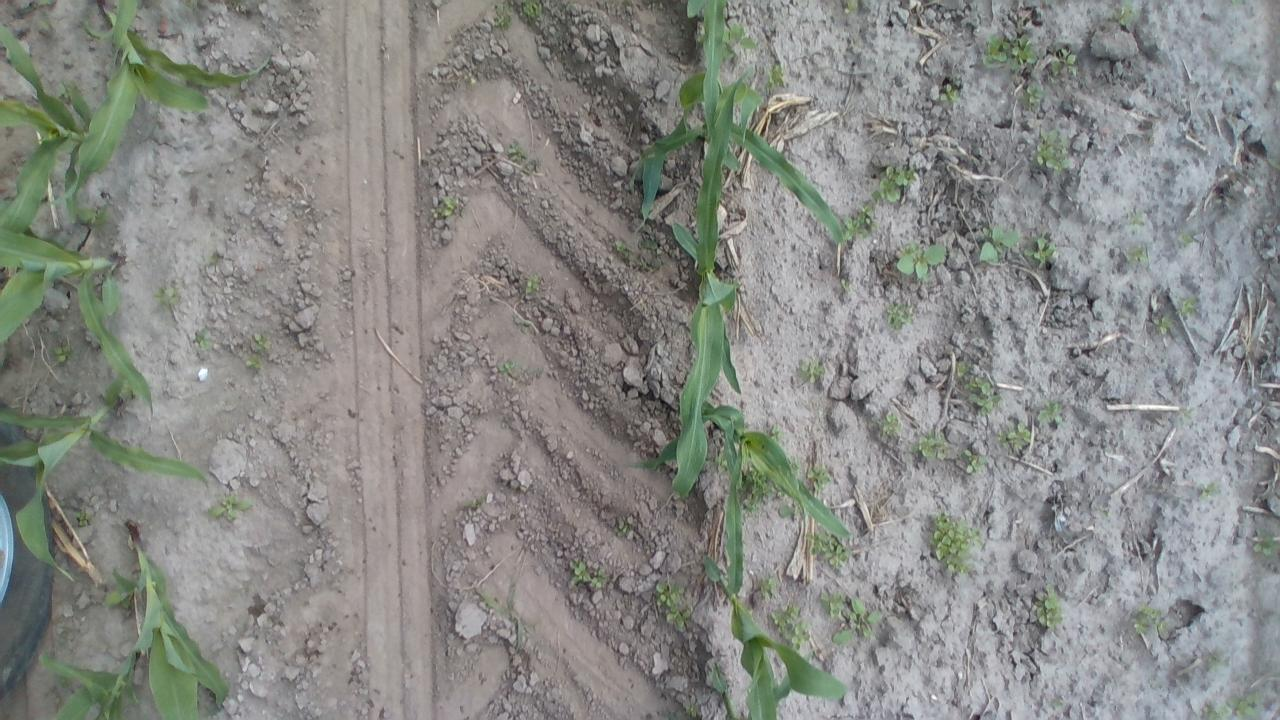Maize: (46, 0, 270, 200), (0, 373, 211, 582), (700, 438, 849, 720), (630, 79, 846, 243), (672, 68, 749, 501), (628, 394, 854, 539), (0, 232, 157, 419), (96, 520, 230, 720), (0, 18, 106, 236), (689, 0, 746, 172), (34, 646, 140, 720), (710, 662, 743, 720)
Weeds: (929, 509, 984, 576), (478, 588, 530, 654), (832, 598, 881, 644), (736, 462, 775, 516), (895, 242, 946, 282), (986, 33, 1038, 70), (656, 582, 694, 630), (1030, 128, 1071, 172), (774, 604, 810, 652), (805, 532, 850, 570), (870, 166, 916, 203), (979, 227, 1022, 265), (841, 202, 879, 241), (965, 377, 1002, 413), (722, 23, 758, 60), (206, 492, 251, 521), (1036, 584, 1065, 628), (78, 202, 111, 235), (911, 430, 948, 459), (1026, 233, 1056, 268), (998, 420, 1032, 450), (508, 140, 538, 173), (1229, 692, 1263, 719), (1048, 48, 1078, 77), (1132, 605, 1160, 634), (819, 590, 845, 618), (800, 356, 826, 384), (1254, 529, 1280, 557), (1038, 398, 1064, 424), (1112, 0, 1138, 26), (1019, 84, 1046, 108), (886, 304, 912, 328), (806, 467, 830, 492), (155, 283, 178, 309), (105, 588, 132, 609), (568, 558, 590, 582), (964, 450, 986, 474), (493, 0, 510, 31), (765, 63, 784, 90), (882, 412, 904, 434), (56, 80, 76, 102), (759, 578, 778, 600), (1202, 704, 1228, 720), (1154, 314, 1174, 334), (441, 195, 460, 216), (939, 85, 960, 103), (714, 449, 730, 472), (1125, 246, 1148, 262), (588, 571, 608, 589), (1180, 294, 1196, 316), (779, 501, 801, 516), (522, 0, 540, 18), (72, 509, 91, 526), (462, 495, 485, 509), (1128, 210, 1144, 230), (1200, 482, 1220, 498), (614, 238, 629, 258), (253, 333, 270, 350), (55, 345, 70, 364), (198, 330, 212, 350), (498, 359, 521, 371), (246, 353, 262, 369), (770, 426, 786, 442), (1178, 232, 1194, 248), (525, 276, 540, 293), (1208, 654, 1222, 670), (684, 702, 700, 715), (787, 457, 800, 473), (640, 258, 660, 268), (846, 0, 860, 14), (1094, 504, 1108, 518), (956, 362, 970, 375), (38, 18, 50, 32), (617, 523, 628, 538), (641, 239, 657, 249), (207, 252, 220, 264), (1180, 408, 1192, 421), (430, 206, 442, 219), (841, 278, 852, 292), (664, 711, 680, 720), (36, 0, 54, 8), (1269, 158, 1280, 170), (776, 485, 786, 498), (1158, 620, 1166, 632), (1054, 700, 1064, 708), (1230, 0, 1242, 6), (698, 33, 704, 43)
